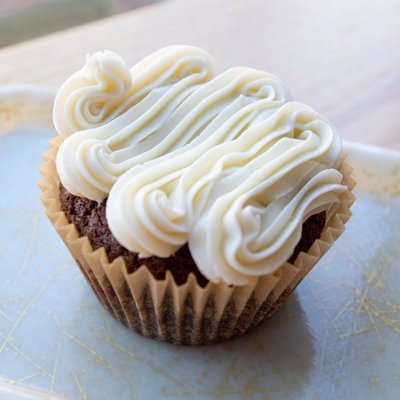sushi: (34, 28, 379, 347)
